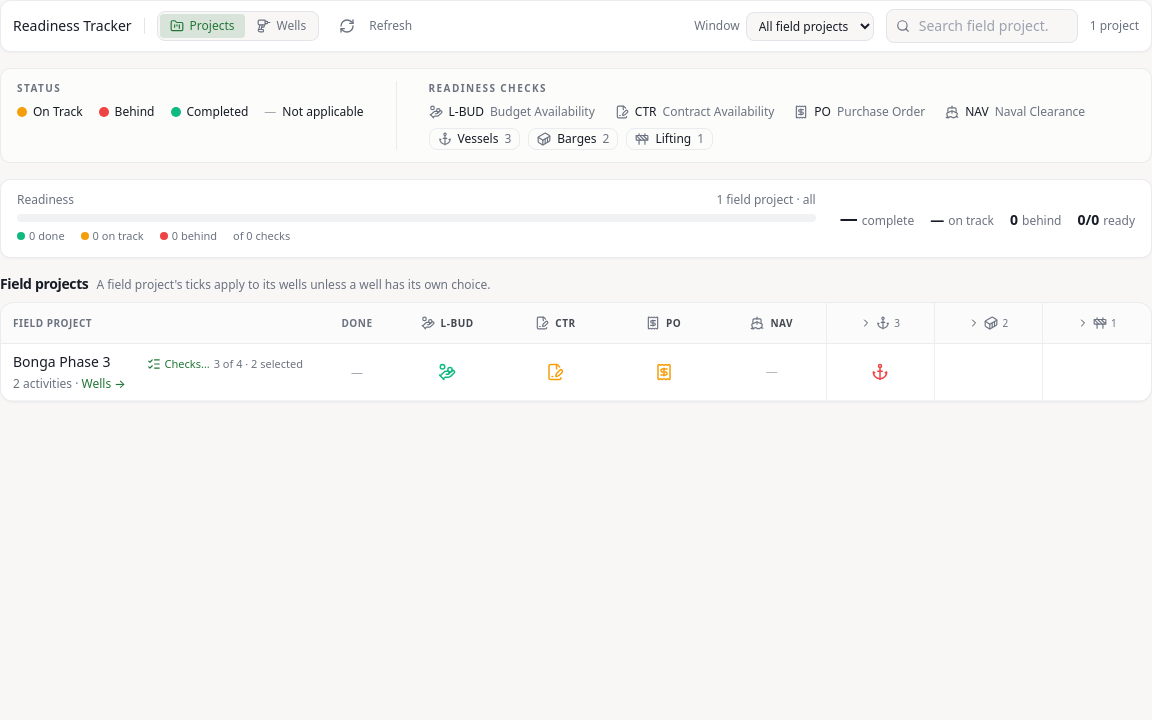
Scenario: the grouped, searchable tick list (spec §8.8) › select all is tri-state, and ticks only what isn't ticked
This screenshot has width=1152, height=720.
Step 1. Click the button "Checks… 3 of 4 · 2 selected" → (225, 364), box x1=141 y1=352 x2=309 y2=376
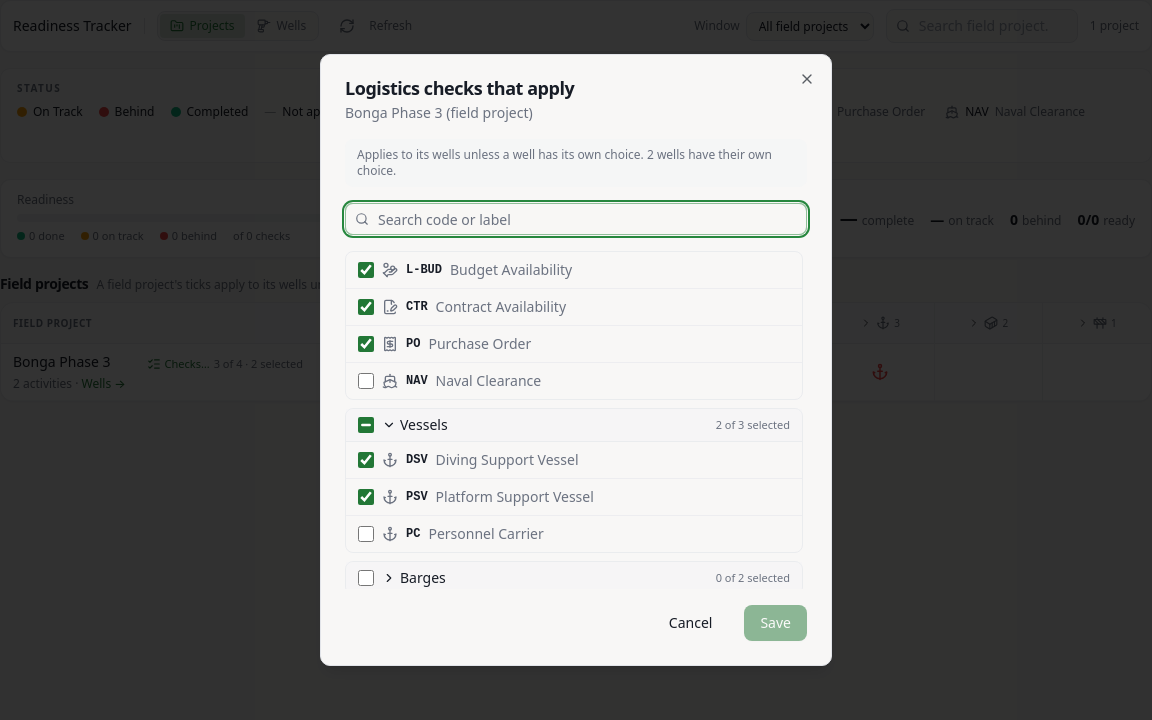
Step 2. Click the checkbox named "Select all Vessels" → (366, 425), box x1=358 y1=417 x2=374 y2=433
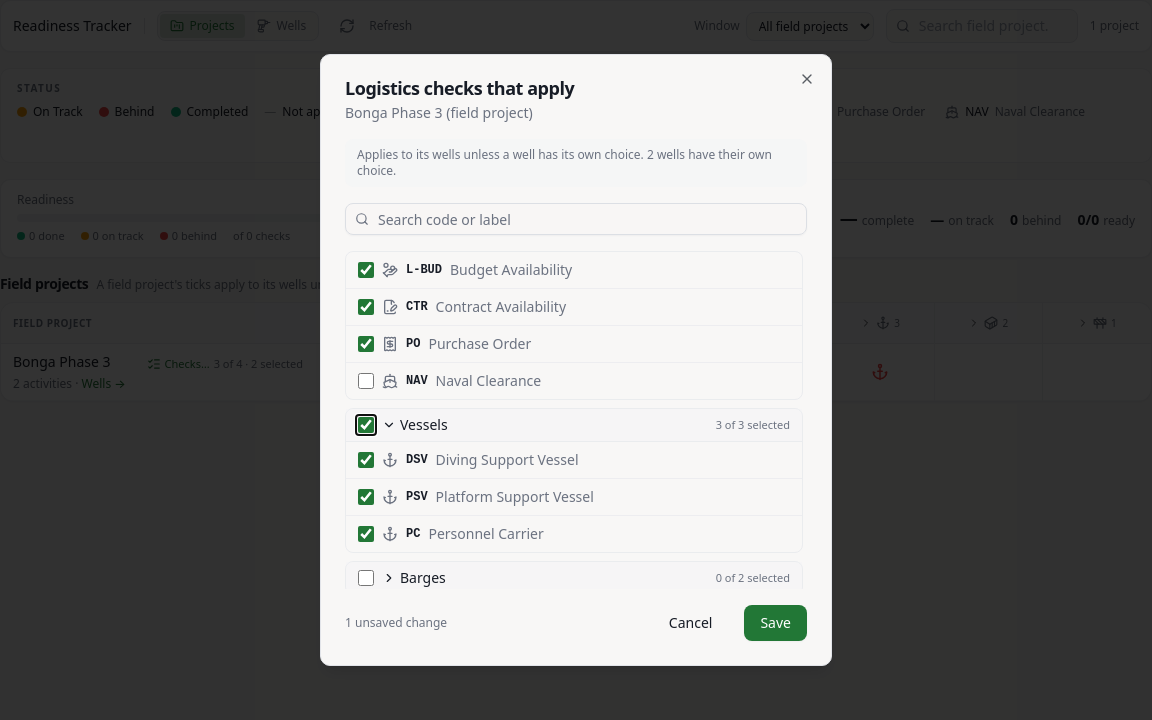
Result: the checkbox named "Select all Vessels" is checked
Result: the element "Vessels" shows "3 of 3 selected" at x1=345 y1=408 x2=803 y2=553
Result: the text with test id "picker-footer" reads "1 unsaved change" at x1=345 y1=614 x2=447 y2=631
Step 3. Click the checkbox named "Select all Vessels" → (366, 425), box x1=358 y1=417 x2=374 y2=433
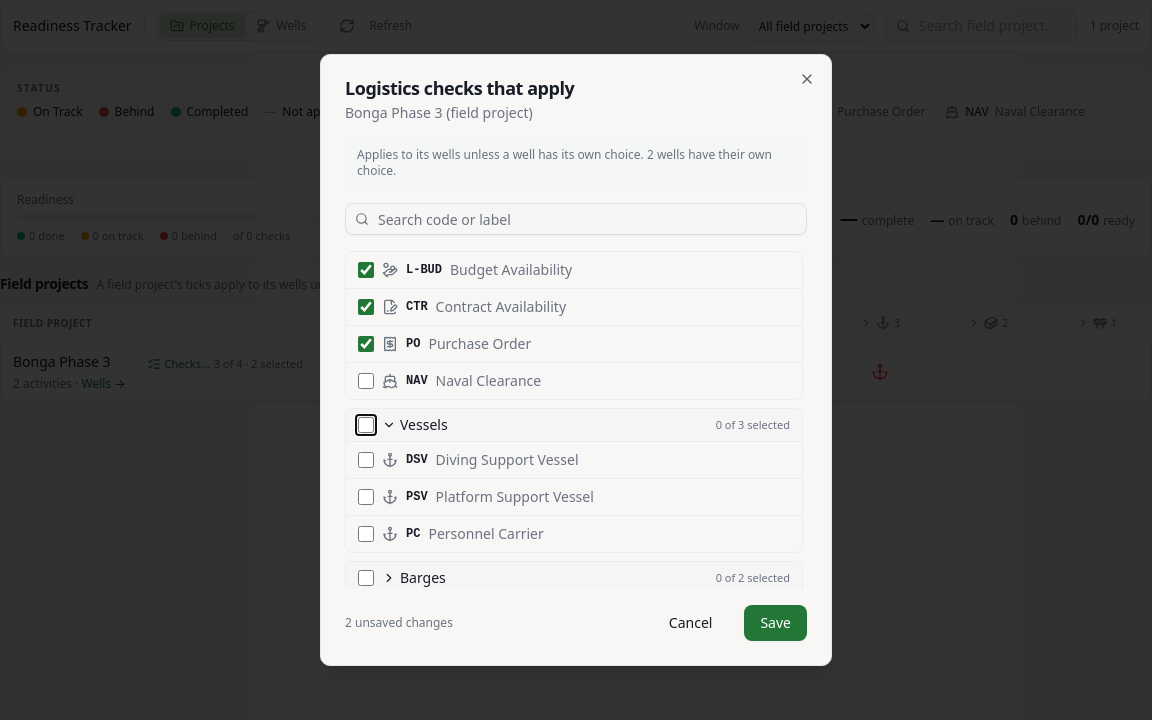
Result: the checkbox named "Select all Vessels" is not checked at x1=358 y1=417 x2=374 y2=433
Result: the element "Vessels" shows "0 of 3 selected" at x1=345 y1=408 x2=803 y2=553
Result: the text with test id "picker-footer" reads "2 unsaved changes" at x1=345 y1=614 x2=453 y2=631
